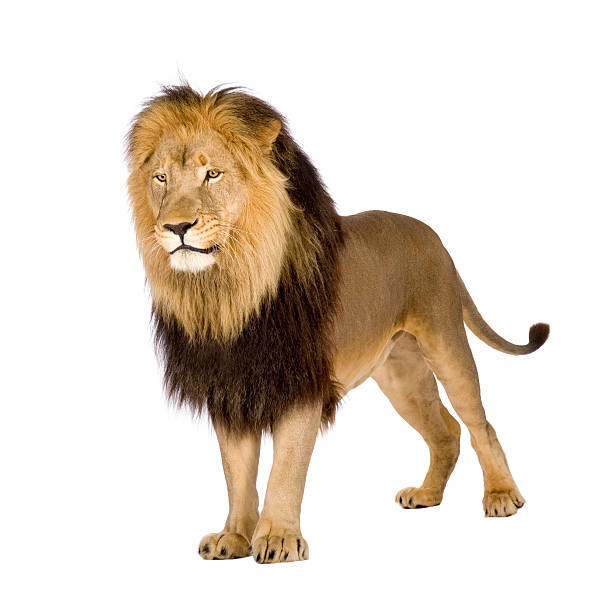lion: (70, 65, 376, 474)
